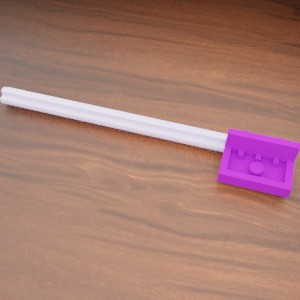lego: (0, 86, 281, 164), (216, 128, 300, 197)
